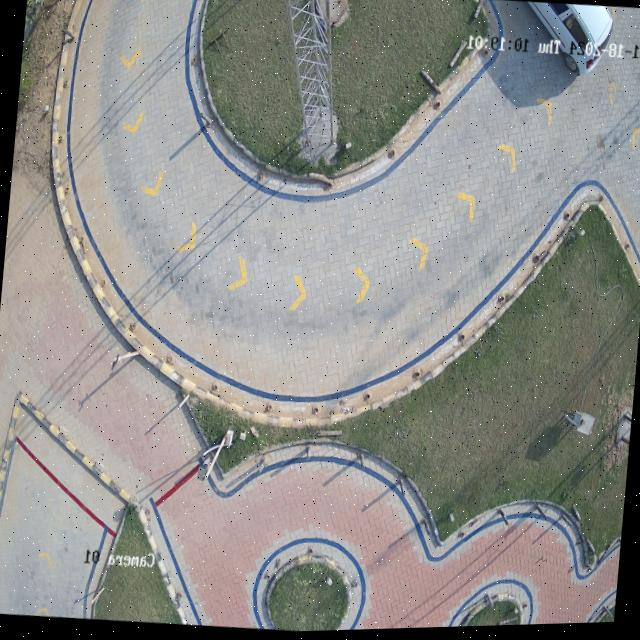car: (528, 5, 613, 77)
